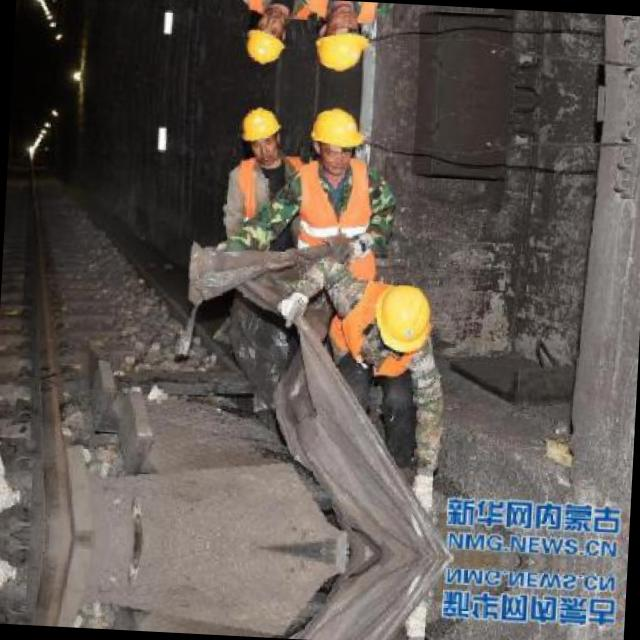helmet: (368, 278, 434, 362), (304, 102, 367, 173), (309, 4, 372, 74), (237, 100, 285, 161), (242, 8, 290, 69)
